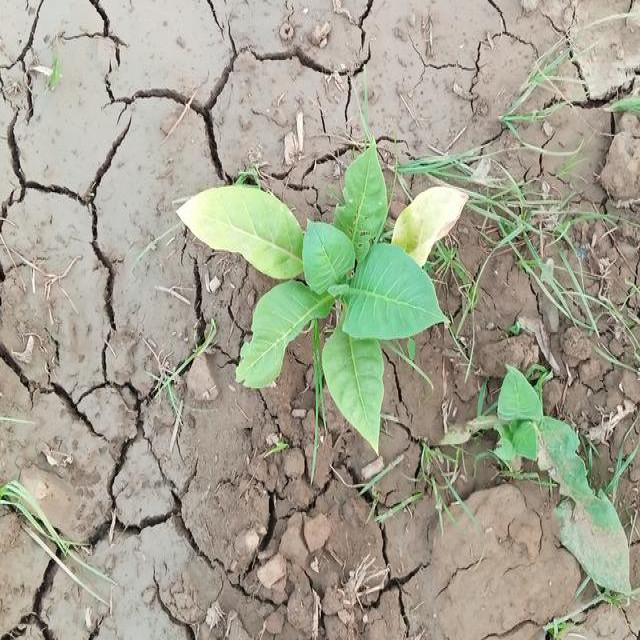crop: (176, 143, 471, 455)
